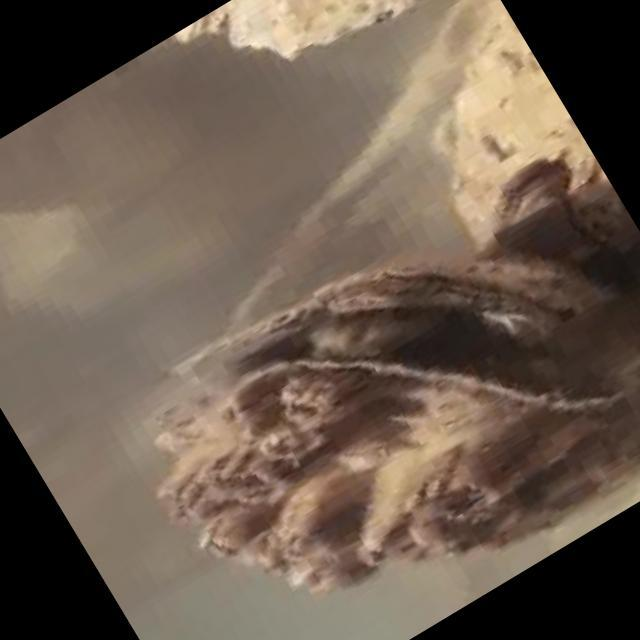Oyster- Indeterminate: (474, 156, 627, 329), (176, 0, 414, 58)
